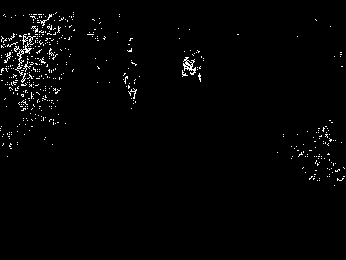person: (123, 62, 139, 104)
